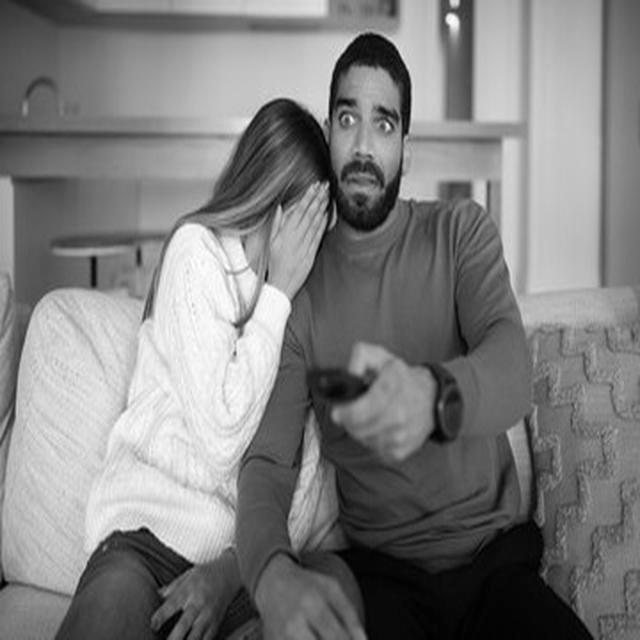Fear: (334, 61, 404, 228)
